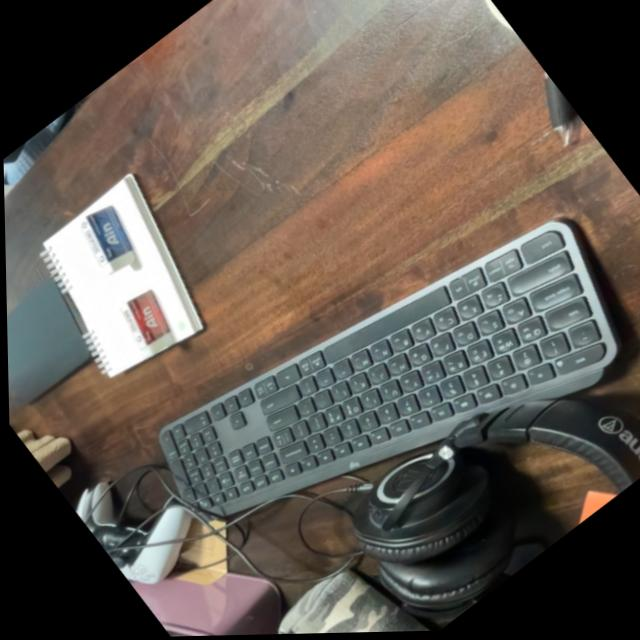blue: (64, 194, 149, 282)
red: (106, 280, 186, 363)
